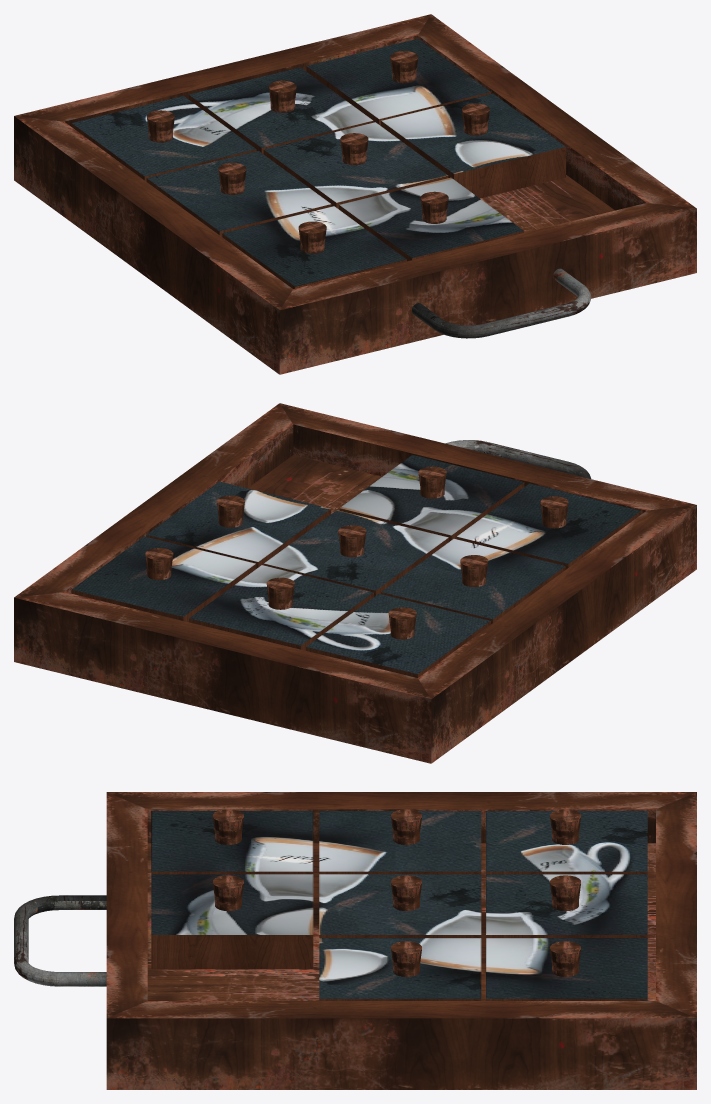
File: PuzzleBoard.FBX
The picture shows the model from 3 angles, top to bottom: view 1: azimuth 30°, elevation 25°; view 2: azimuth 150°, elevation 25°; view 3: azimuth 270°, elevation 25°; orthographic projection. The views are drawn at different scales.
Visible parts, largest first — view 1: PuzzleBoard; view 2: PuzzleBoard; view 3: PuzzleBoard.
Boxes of the visible parts, x1=… form: PuzzleBoard: x1=14, y1=14, x2=696, y2=374; PuzzleBoard: x1=14, y1=403, x2=696, y2=763; PuzzleBoard: x1=14, y1=792, x2=696, y2=1089.
Size of the model in its own units: 142 by 28 by 182.
